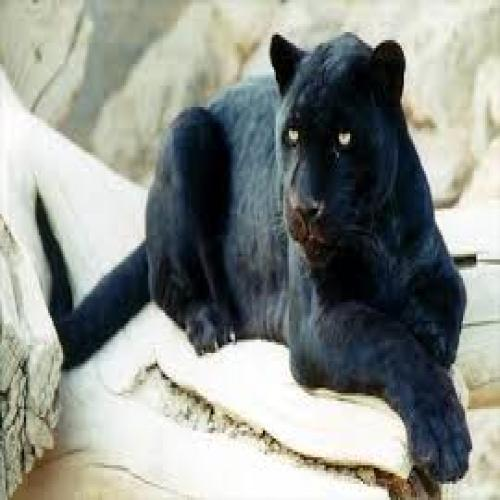panther-endangered: (35, 32, 472, 483)
